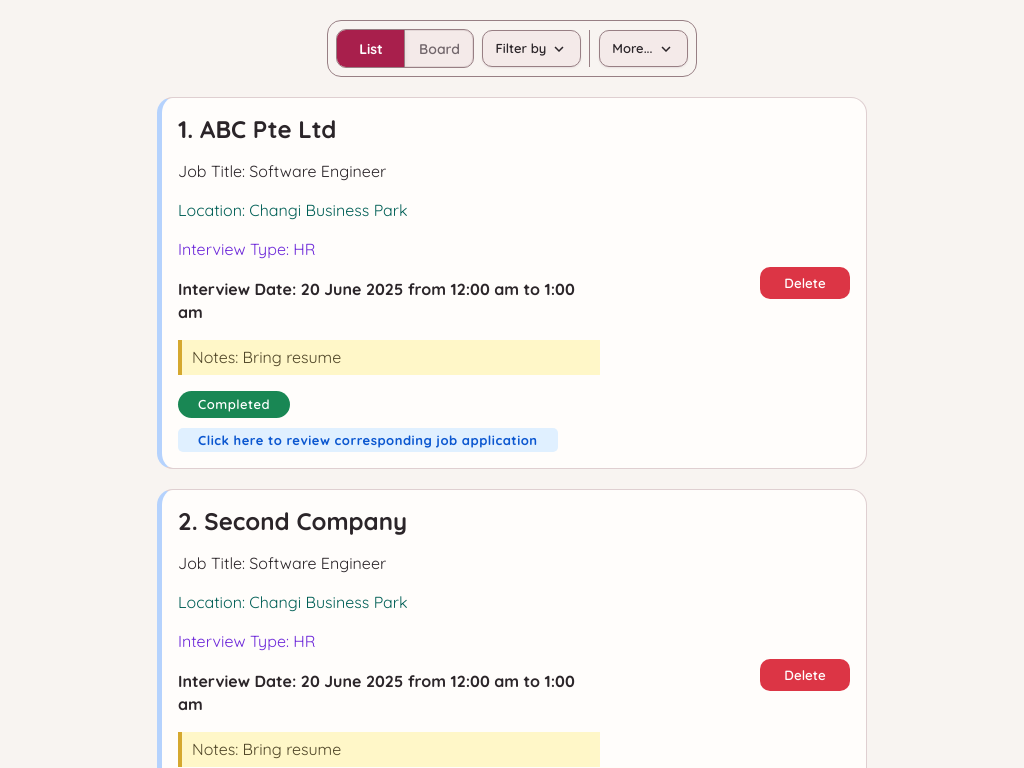
Job interview viewer flow › switches the loaded array to Board without refetching or changing order
Click the button "Board" at point(440, 48), box [406,30,474,67]
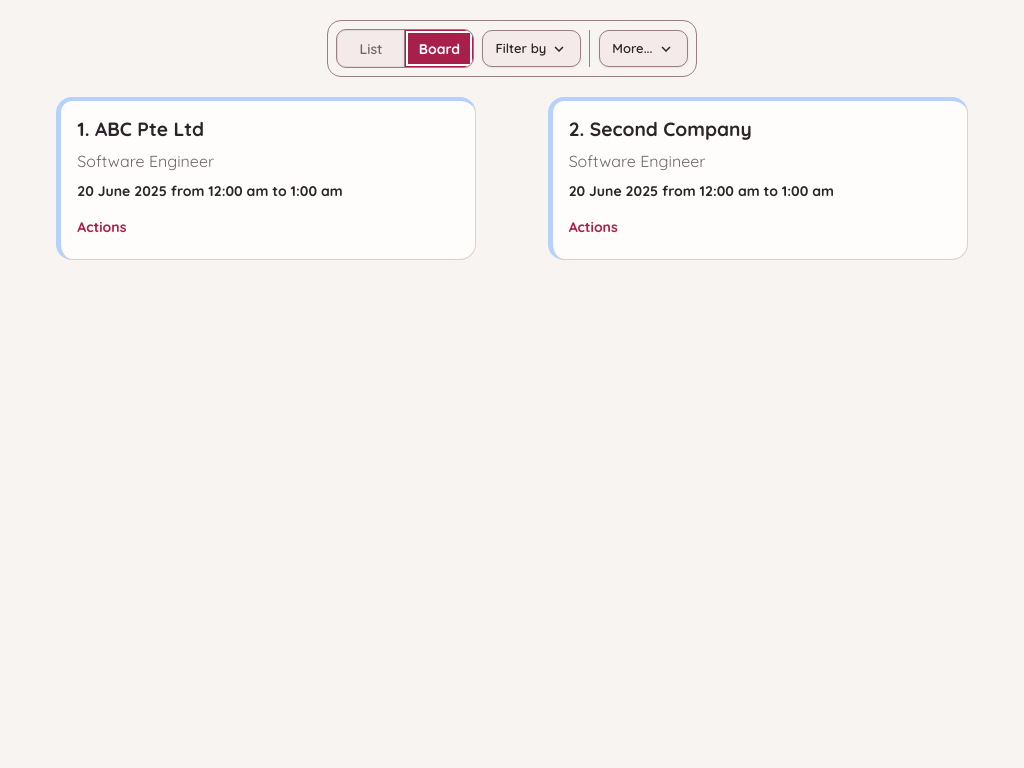
Result: the text "Notes:" is gone
Result: the link "review corresponding job application" is gone
Result: the number of headings "Actions" is 2 at [77,218,126,236]; [569,218,618,236]
